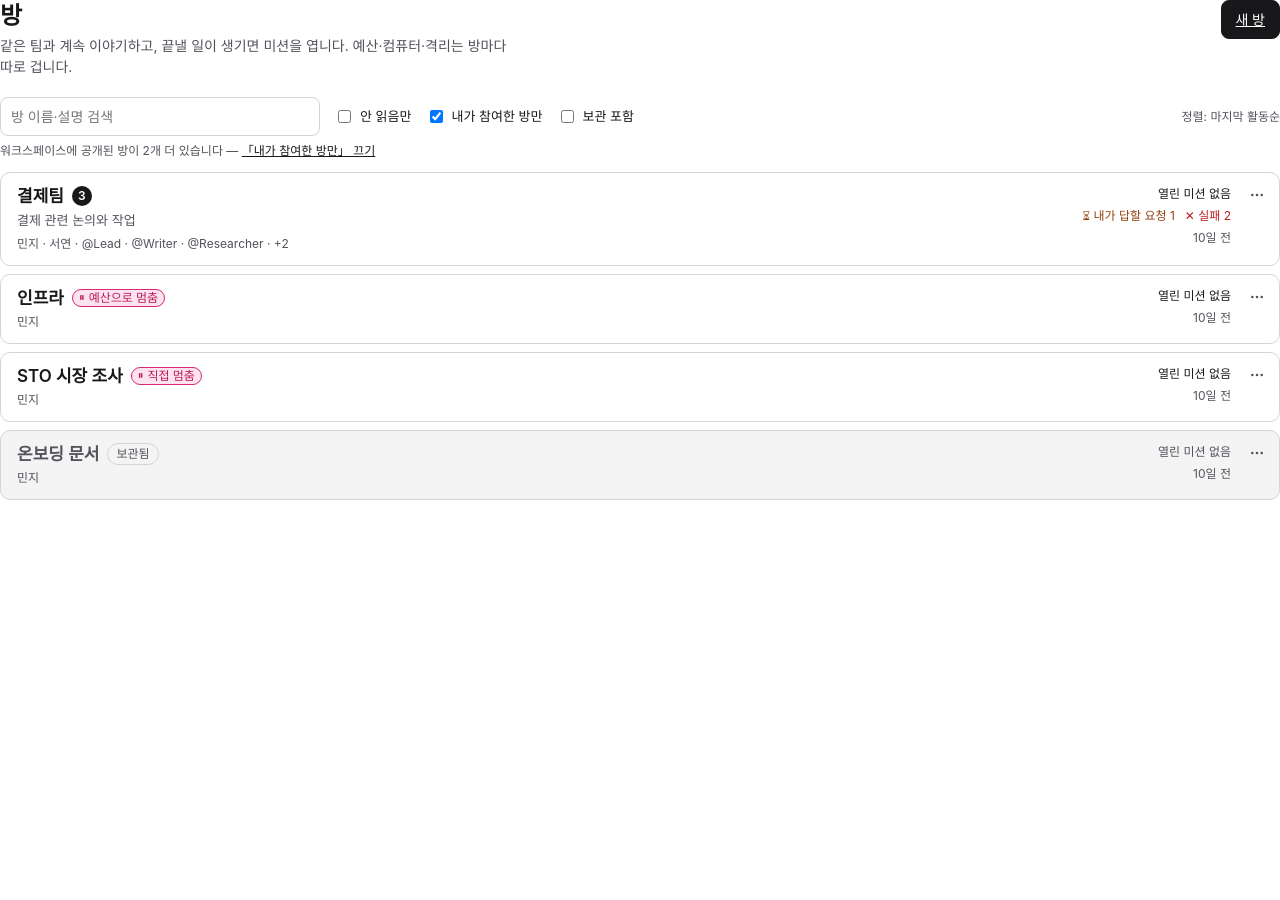
Test: 「…」 메뉴 › 삭제 409 workdir_unmerged — 폴더 목록 + 작업 폴더 관리 링크
Expected: the number of elements with test id "room-row" is 4, [0,172,1279,266]; [0,274,1279,344]; [0,352,1279,422]; [0,430,1279,500]
Click the button with test id "room-menu-button" in the row of "결제팀". click: (1257, 195)
box: [1243,181,1271,209]
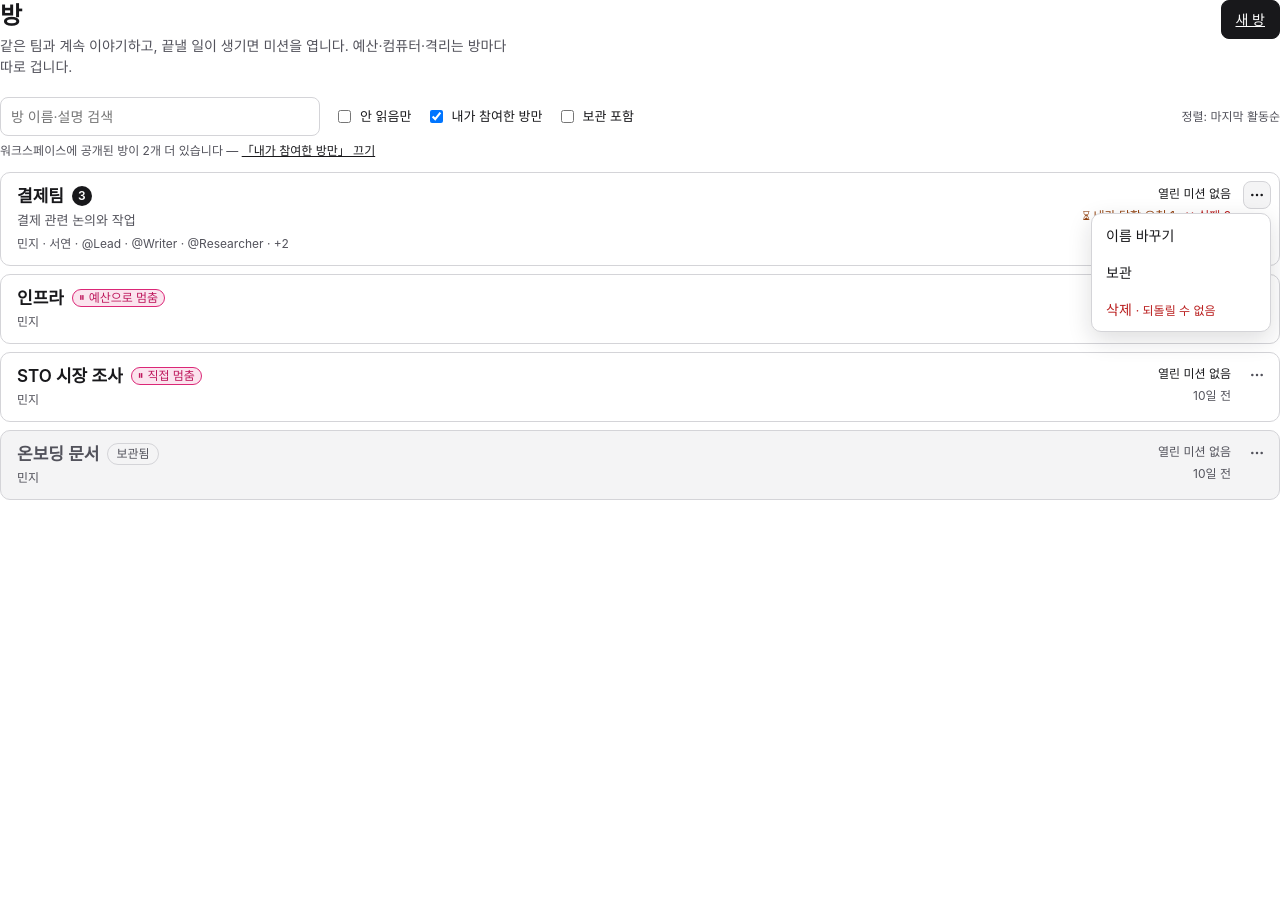
Click the menu item with test id "room-menu-delete". click: (1181, 310)
box: [1096,292,1266,327]
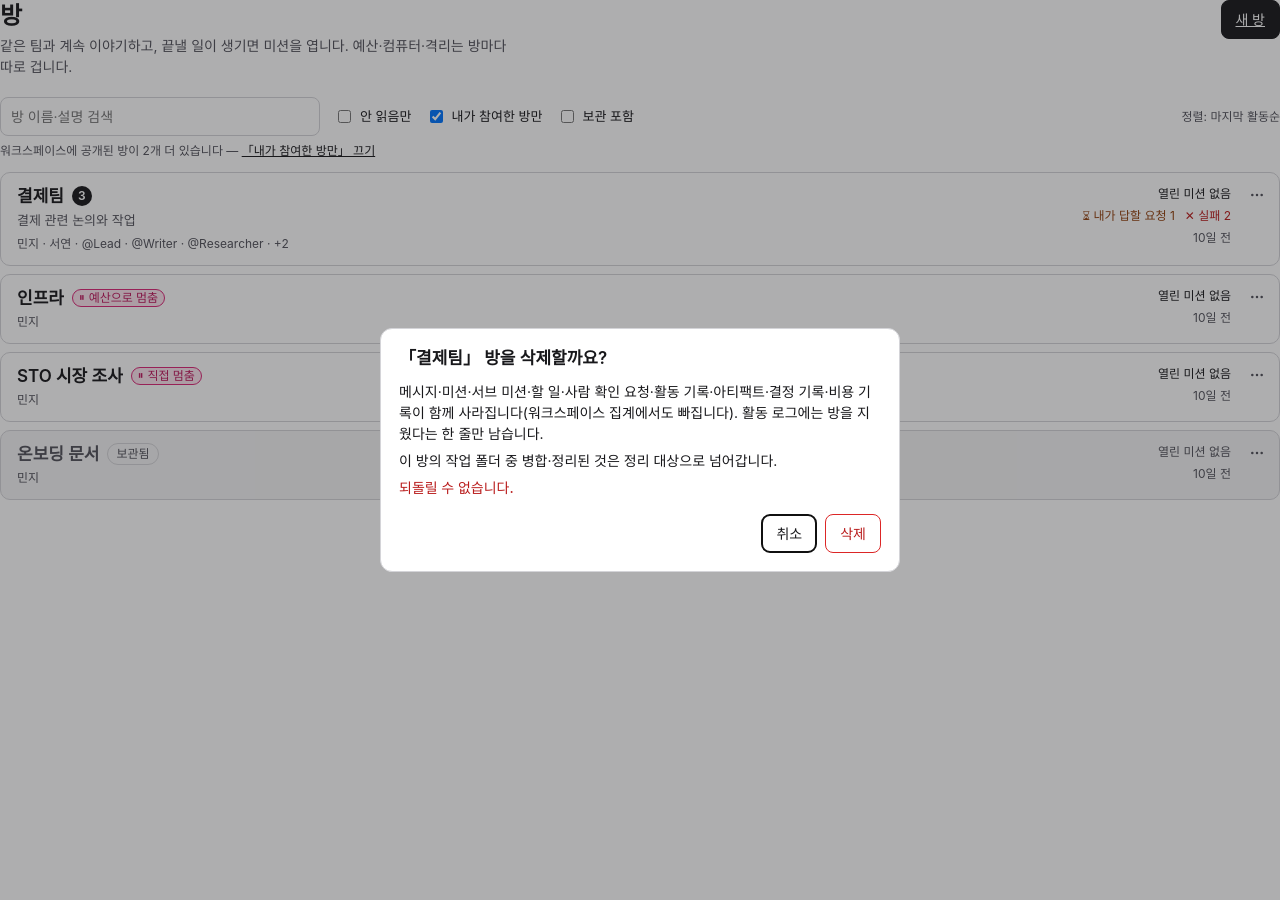
Click the button with test id "delete-room-dialog-confirm". click: (853, 534)
box: [825,514,881,554]
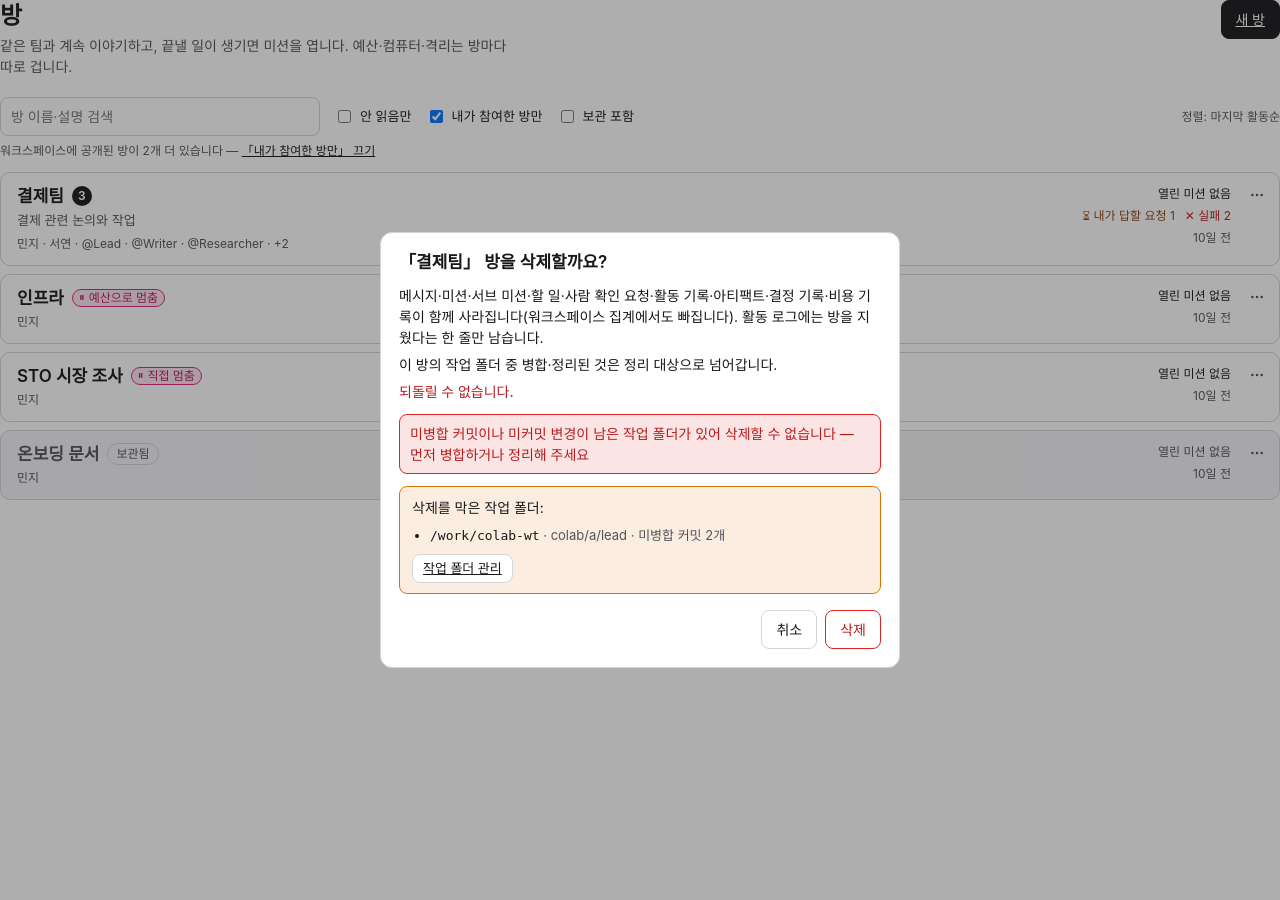
Expected: the number of elements with test id "room-row" is 4, [0,172,1279,266]; [0,274,1279,344]; [0,352,1279,422]; [0,430,1279,500]
Result: the element with test id "delete-room-workdirs" shows "/work/colab-wt · colab/a/lead · 미병합 커밋 2개" at [399,486,881,594]
Result: the link with test id "delete-room-workdirs-link" reads "작업 폴더 관리" at [412,554,513,584]
